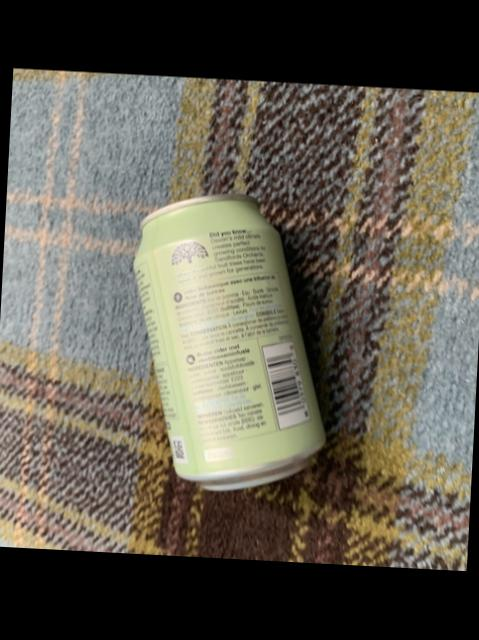metal: (131, 197, 321, 491)
